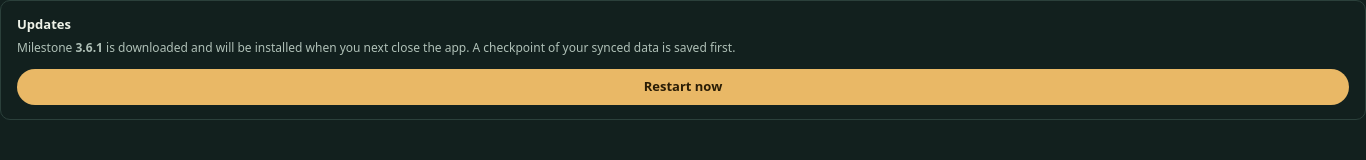
Scenario: desktop: "Restart now" saves a checkpoint for the downloaded version before restarting
Click the button "Restart now" at [683, 86], box [17,68,1349,104]
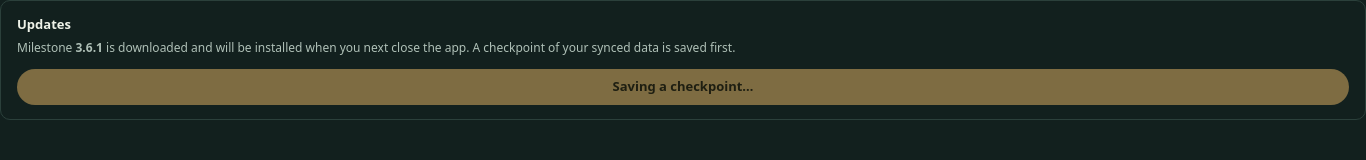
Expected: the button "Saving a checkpoint…" is shown, [17,68,1349,104]
Expected: the button "Saving a checkpoint…" is disabled, [17,68,1349,104]
